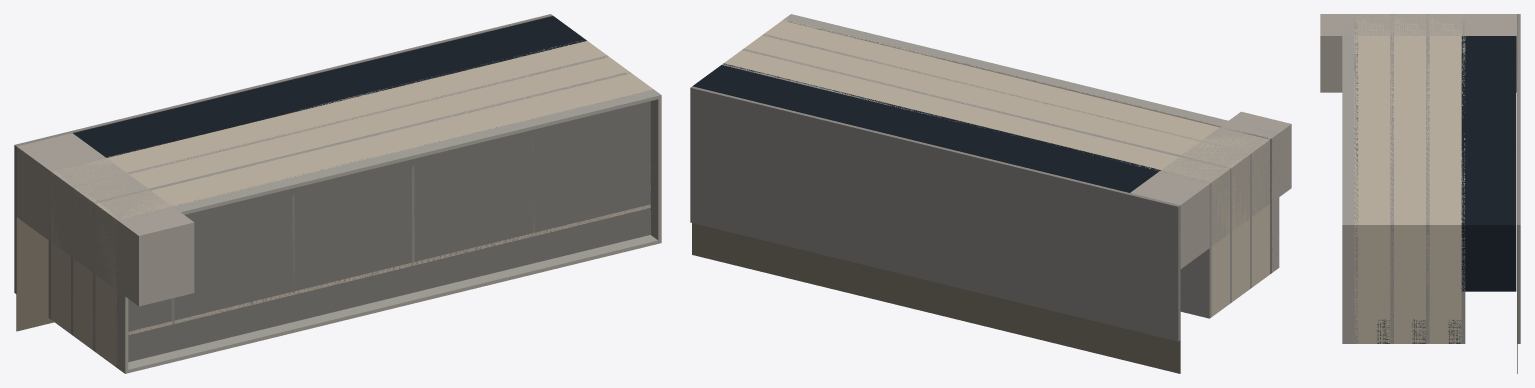
The picture shows the model from 3 angles, left to right: view 1: azimuth 30°, elevation 25°; view 2: azimuth 150°, elevation 25°; view 3: azimuth 270°, elevation 25°; orthographic projection. The views are drawn at different scales.
Parts seen in each view (by area): view 1: ROOF_SLAB, SHOP, F3_WALL_N, F1_WALL_N, F2_WALL_N, ROOF_CORE, ROOF_PARAPET_S, ROOF_PARAPET_N, BASE_CORE, SITE_PLOT, F3_WALL_W, F1_CORE (+12 smaller); view 2: BASE_SLAB, SITE_PLOT, SHOP, F2_WALL_N, F1_WALL_N, F3_WALL_N, BASE_CORE, ROOF_PARAPET_N, F1_SLAB, F1_CORE, ROOF_CORE, F3_CORE (+8 smaller); view 3: SHOP, F3_WALL_N, F1_WALL_N, F2_WALL_N, F3_WALL_E, F1_WALL_E, F2_WALL_E, ROOF_PARAPET_N, ROOF_CORE, ROOF_PARAPET_E, BASE_SLAB, BASE_CORE (+9 smaller).
Boxes of the visible parts, x1,y1,x2,y2 form: ROOF_SLAB: (115, 91, 650, 367); SHOP: (73, 16, 586, 157); F3_WALL_N: (95, 73, 652, 223); F1_WALL_N: (51, 41, 607, 188); F2_WALL_N: (73, 57, 627, 206); ROOF_CORE: (117, 207, 194, 306); ROOF_PARAPET_S: (118, 235, 660, 373); ROOF_PARAPET_N: (118, 90, 661, 227); BASE_CORE: (16, 133, 105, 241); SITE_PLOT: (16, 15, 552, 331); F3_WALL_W: (95, 203, 118, 367); F1_CORE: (51, 158, 128, 257); BASE_SLAB: (690, 86, 1180, 341); SITE_PLOT: (692, 86, 1180, 373); SHOP: (693, 63, 1160, 192); F2_WALL_N: (744, 34, 1249, 167); F1_WALL_N: (724, 49, 1225, 185); F3_WALL_N: (766, 19, 1272, 155); BASE_CORE: (1130, 170, 1211, 268); ROOF_PARAPET_N: (786, 14, 1278, 140); F1_SLAB: (722, 63, 1211, 318); F1_CORE: (1162, 155, 1231, 246); ROOF_CORE: (1222, 111, 1291, 201); F3_CORE: (1202, 126, 1272, 216); SHOP: (1461, 36, 1516, 291); F3_WALL_N: (1354, 14, 1390, 228); F1_WALL_N: (1426, 14, 1461, 228); F2_WALL_N: (1390, 14, 1425, 228); F3_WALL_E: (1354, 223, 1390, 343); F1_WALL_E: (1426, 223, 1461, 343); F2_WALL_E: (1390, 223, 1425, 343); ROOF_PARAPET_N: (1342, 14, 1354, 227); ROOF_CORE: (1320, 14, 1354, 92); ROOF_PARAPET_E: (1342, 223, 1354, 343); BASE_SLAB: (1517, 14, 1520, 343); BASE_CORE: (1461, 14, 1516, 92).
Size of the model in its own units: 40.57 by 13.37 by 16.3.
